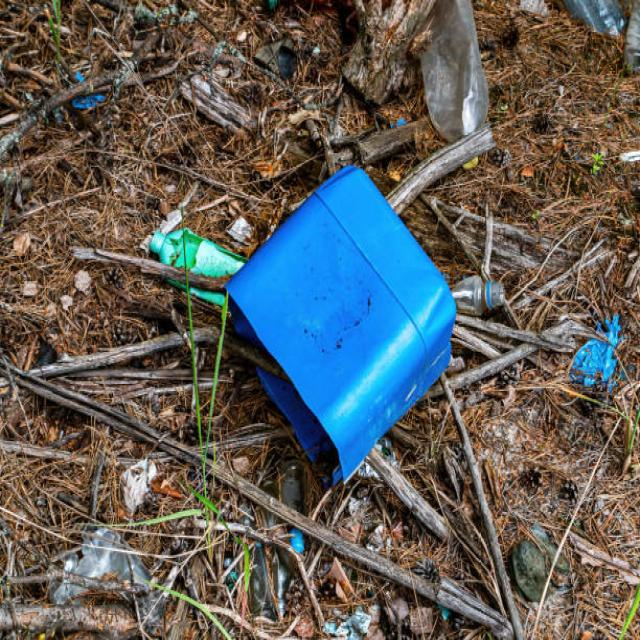plastic: (221, 164, 409, 511)
